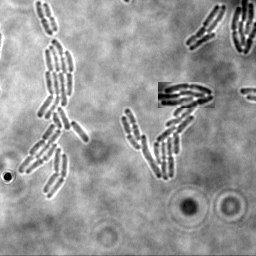Dividing: (34, 1, 52, 37), (41, 3, 57, 33)
Microcolony: (18, 40, 89, 199), (120, 87, 197, 181), (184, 5, 226, 52), (158, 82, 215, 108), (230, 1, 255, 56)
